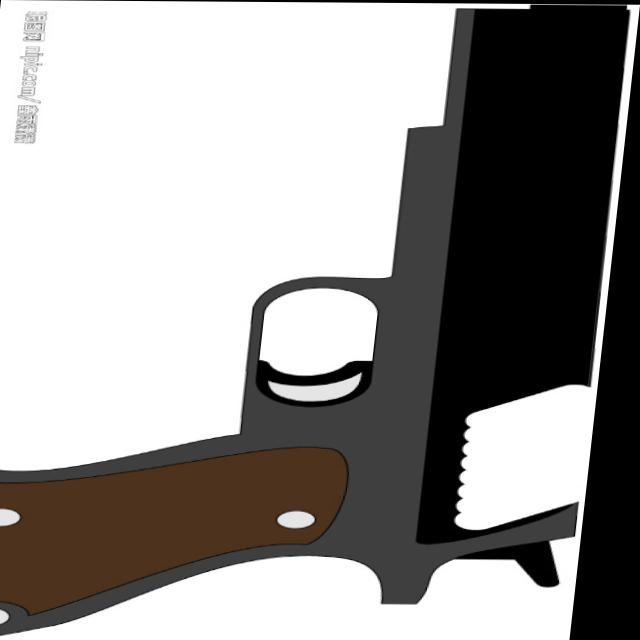handgun: (0, 0, 635, 640)
